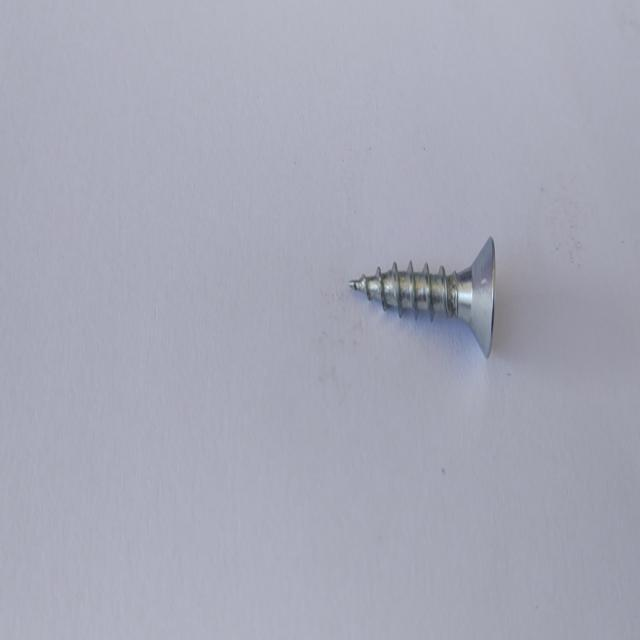Screw: (350, 236, 496, 358)
